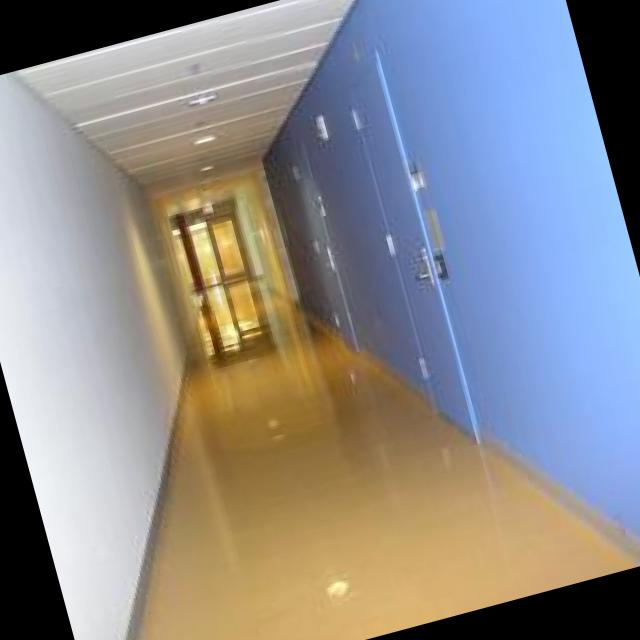ceiling beam: (10, 0, 352, 197)
door bars: (167, 193, 254, 289)
floor -X: (142, 275, 637, 640)
wall clock: (238, 0, 640, 561), (0, 73, 196, 640)
